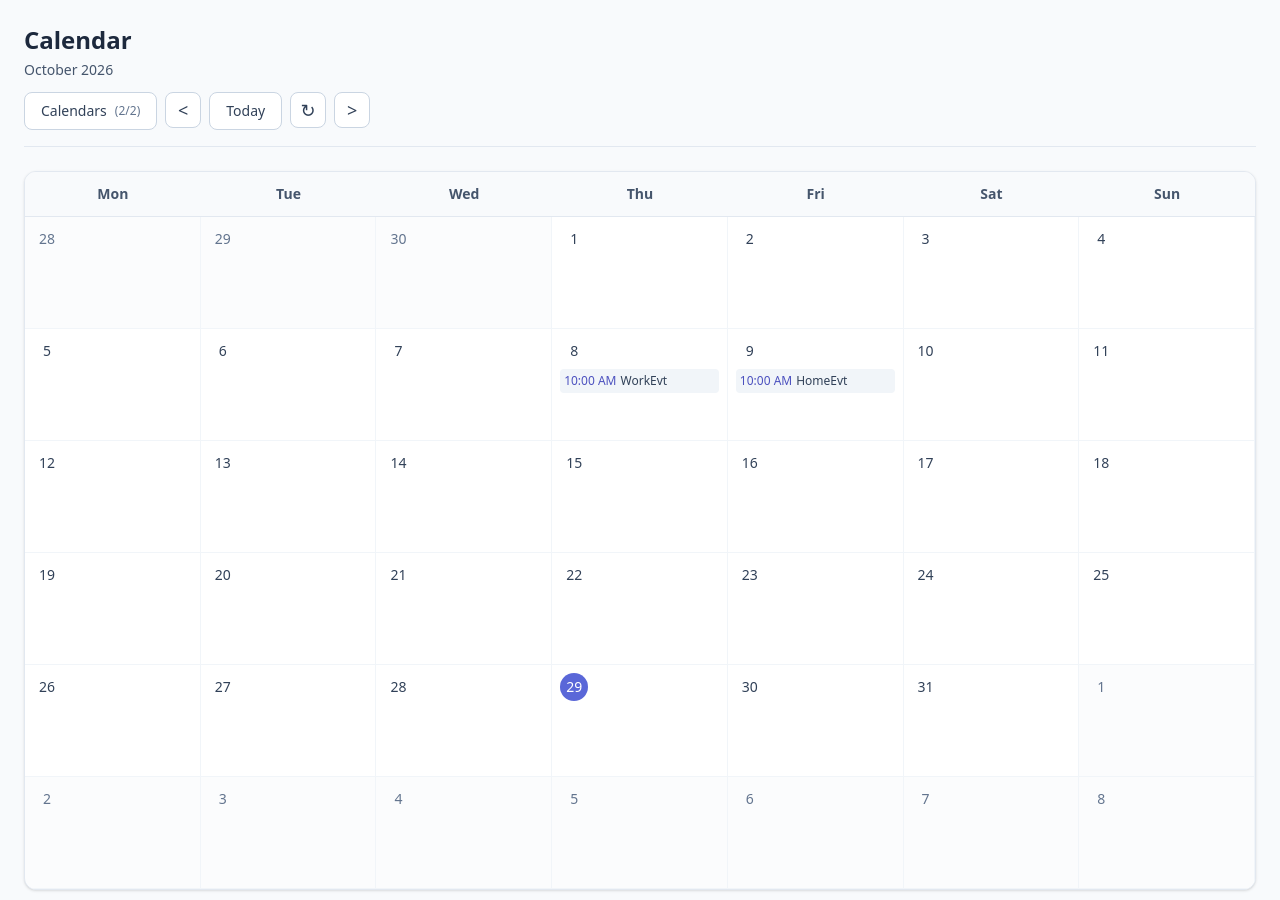
Scenario: Calendar › filters events by calendar via the Calendars dropdown
Expected: the text "WorkEvt" is shown, [620,372,667,389]
Click the button "Calendars (2/2)" at coordinates (91, 111), box [24,92,157,130]
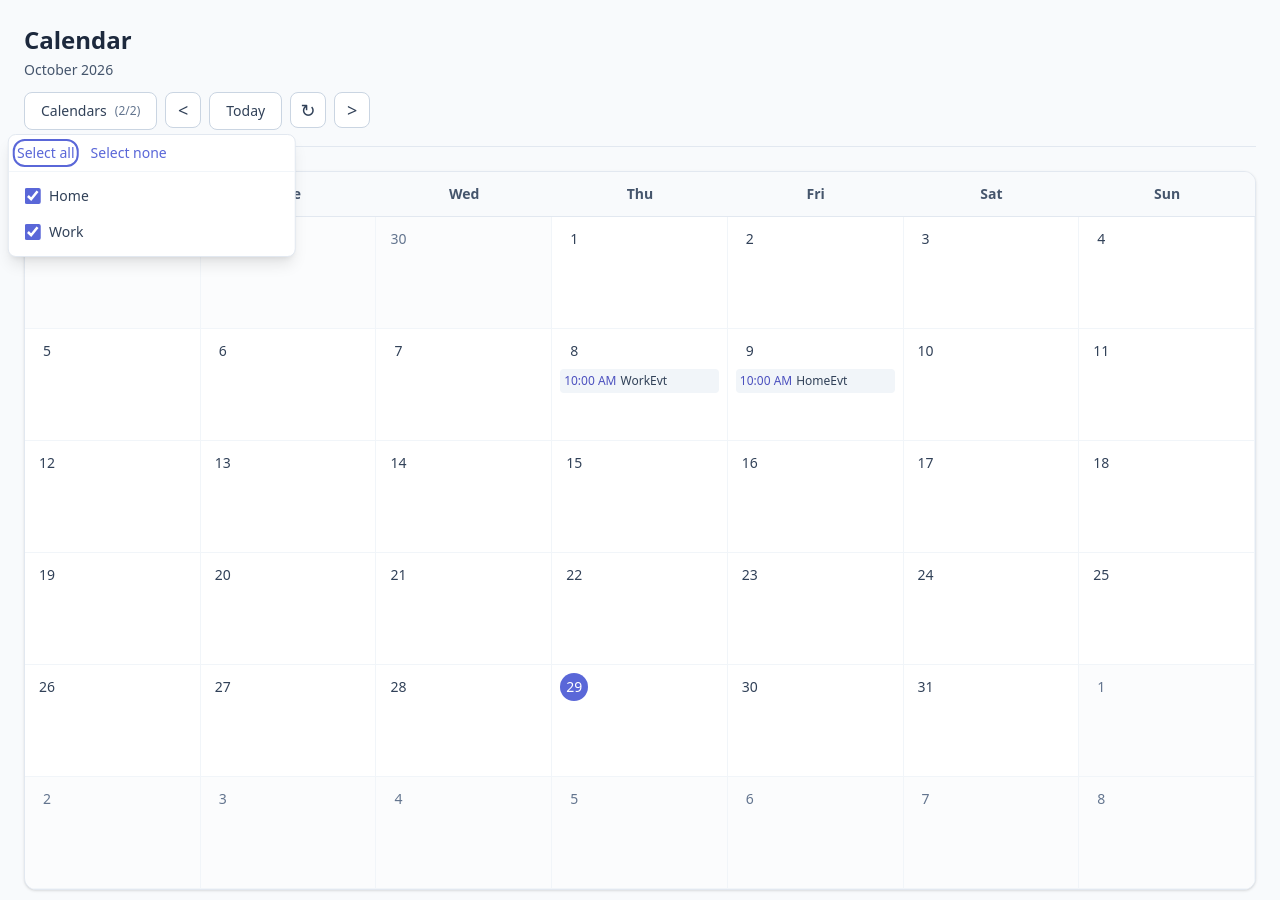
// Uncheck "Home"
Click the checkbox labelled "Home" at coordinates (33, 196), box [25,188,41,204]
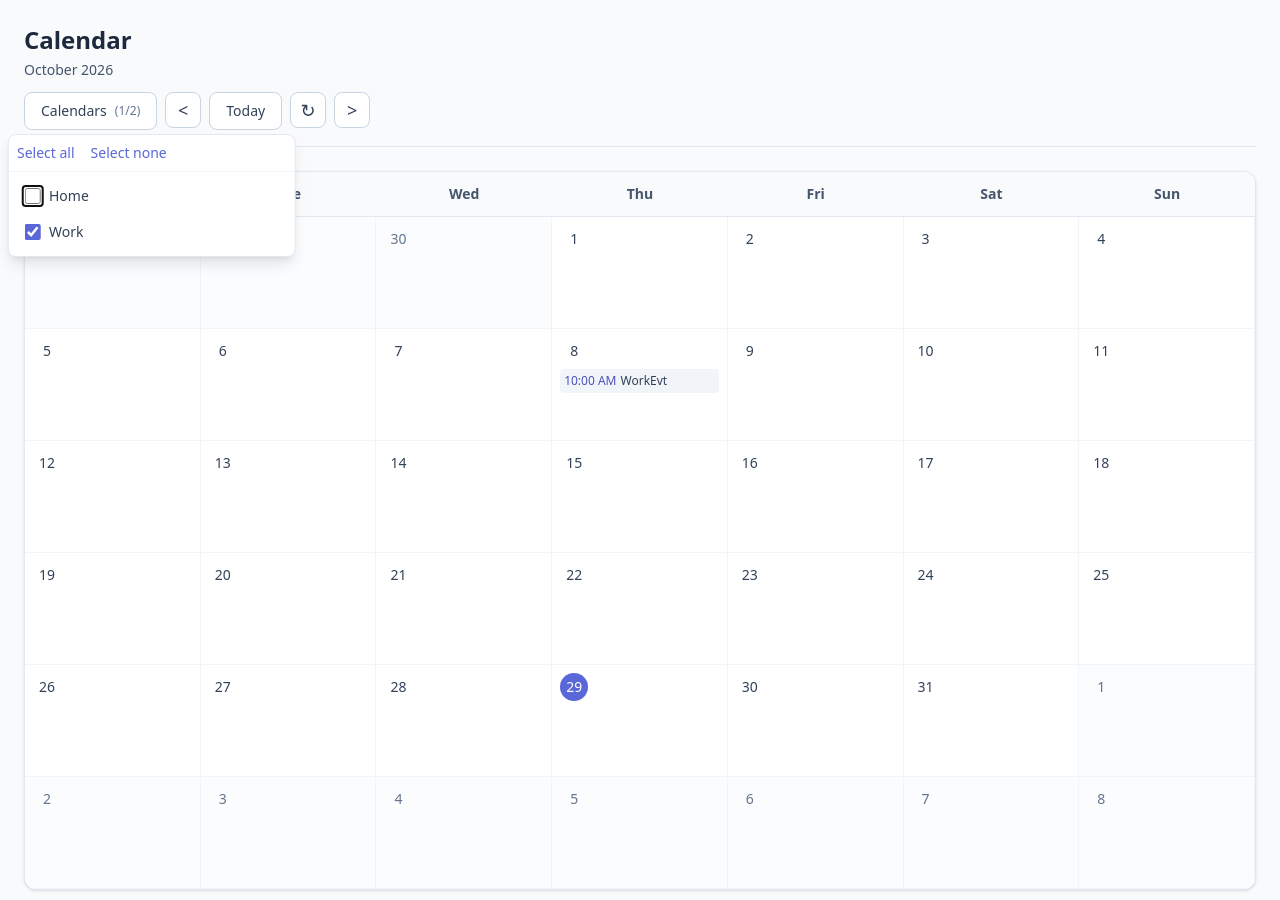
Expected: the text "WorkEvt" is shown, [620,372,667,389]
Expected: the button "HomeEvt" is gone
